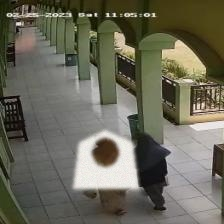Mukena: (73, 130, 138, 188)
